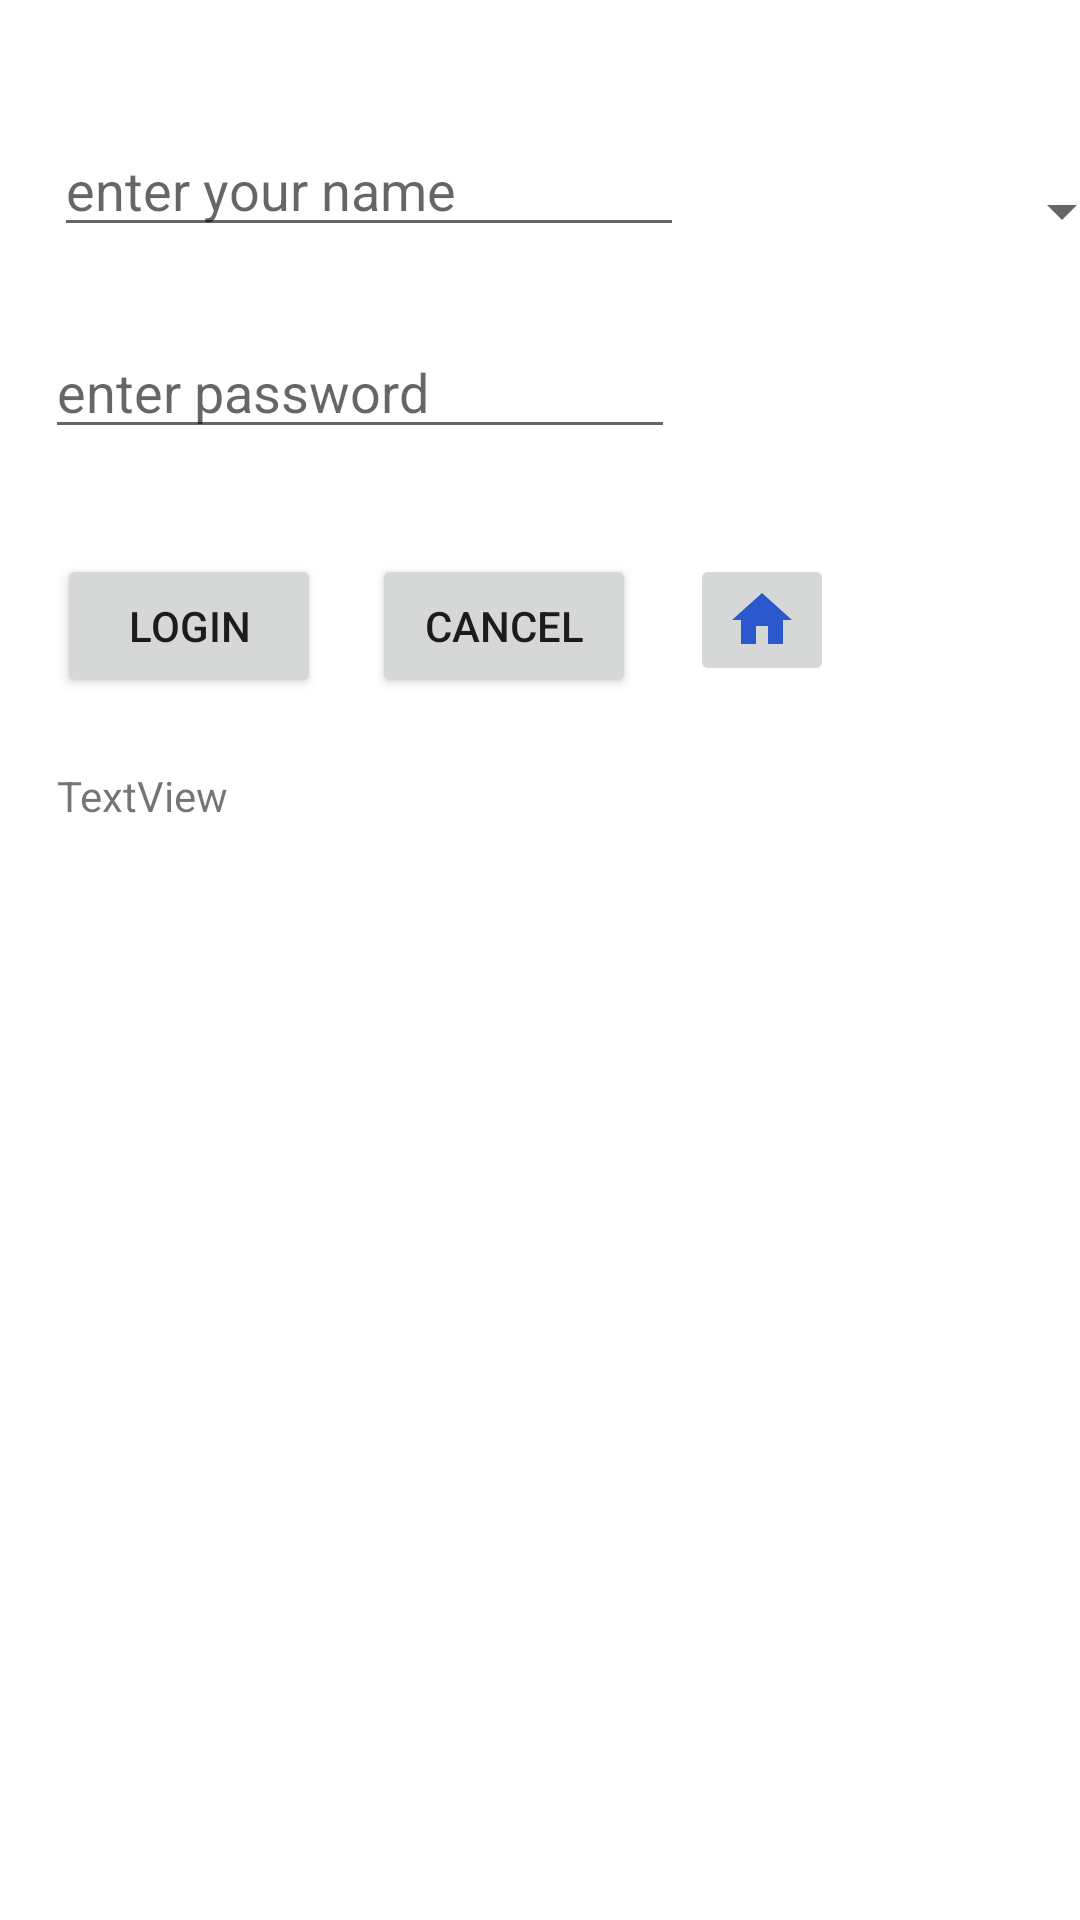

Screen size 1080px x 1920px. Icon name, then its center in pixels as [x,y]:
home: [762,620]
